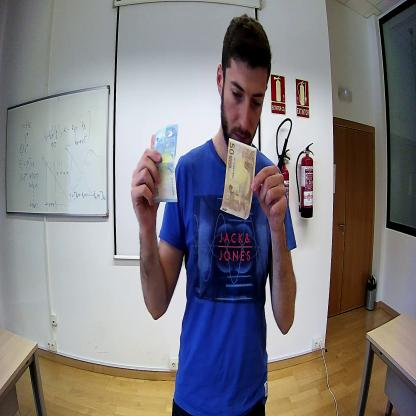billete: (219, 137, 256, 220), (150, 125, 178, 204)
